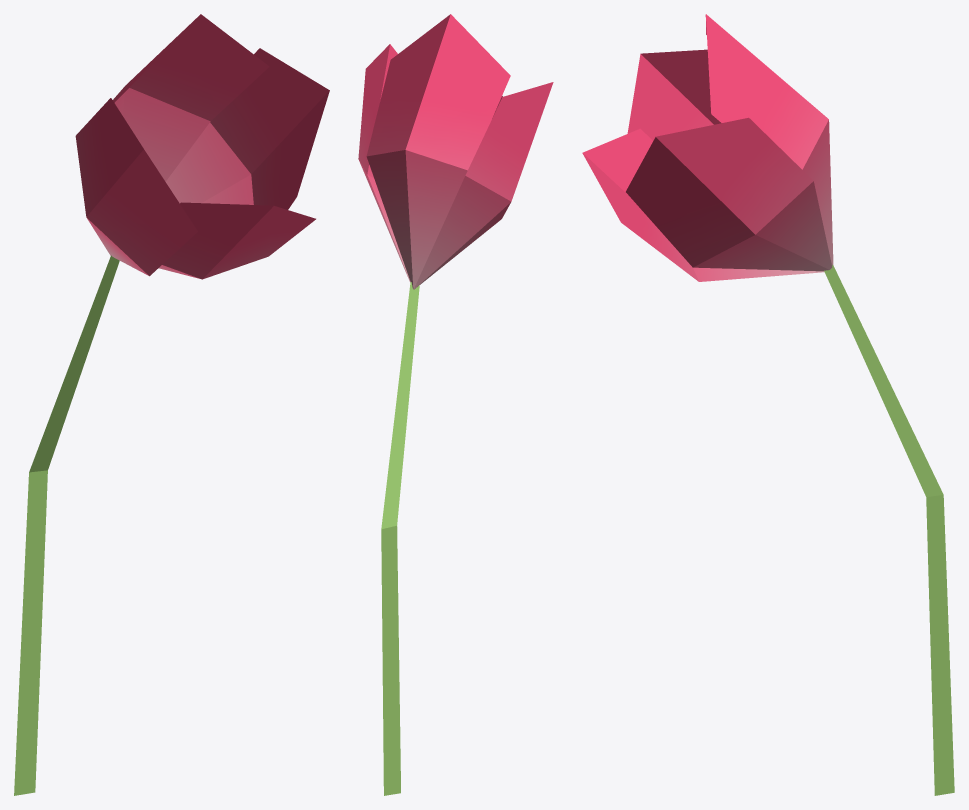
Rendered from Flower_f_TwoS_02.fbx.
3 renders of one model, left to right at view 1: azimuth 30°, elevation 25°; view 2: azimuth 150°, elevation 25°; view 3: azimuth 270°, elevation 25°, orthographic. The views are drawn at different scales.
Visible parts, largest first — view 1: Flower_f_TwoS_02; view 2: Flower_f_TwoS_02; view 3: Flower_f_TwoS_02.
Part boxes in pixels (left/top/right/bottom): Flower_f_TwoS_02: left=14, top=14, right=329, bottom=795; Flower_f_TwoS_02: left=358, top=14, right=553, bottom=795; Flower_f_TwoS_02: left=582, top=14, right=954, bottom=795.
Size of the model in its own units: 11.76 by 48.93 by 20.6.
